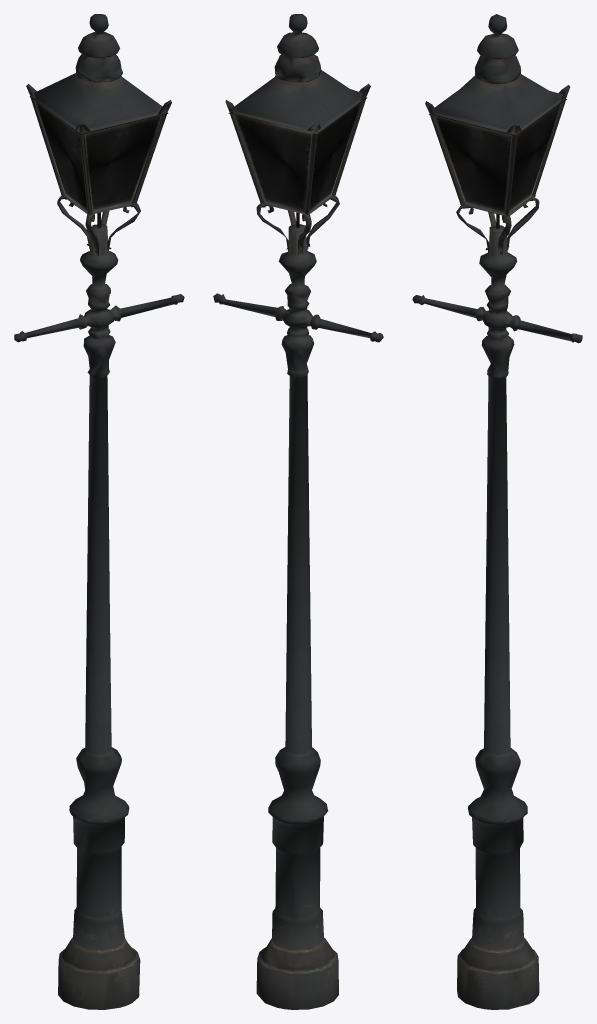
Rendered from lamp.glb.
The picture shows the model from 3 angles, left to right: view 1: azimuth 30°, elevation 25°; view 2: azimuth 150°, elevation 25°; view 3: azimuth 330°, elevation 25°; orthographic projection.
Visible parts, largest first — view 1: street_lamp_01; view 2: street_lamp_01; view 3: street_lamp_01.
Boxes of the visible parts, x1,y1,x2,y2 form: street_lamp_01: (14,14,184,1009); street_lamp_01: (213,14,383,1009); street_lamp_01: (412,14,582,1009).
Bounding box in the file's own units: 0.7008 × 3.87 × 0.3855.
2 materials, 2 textured.
